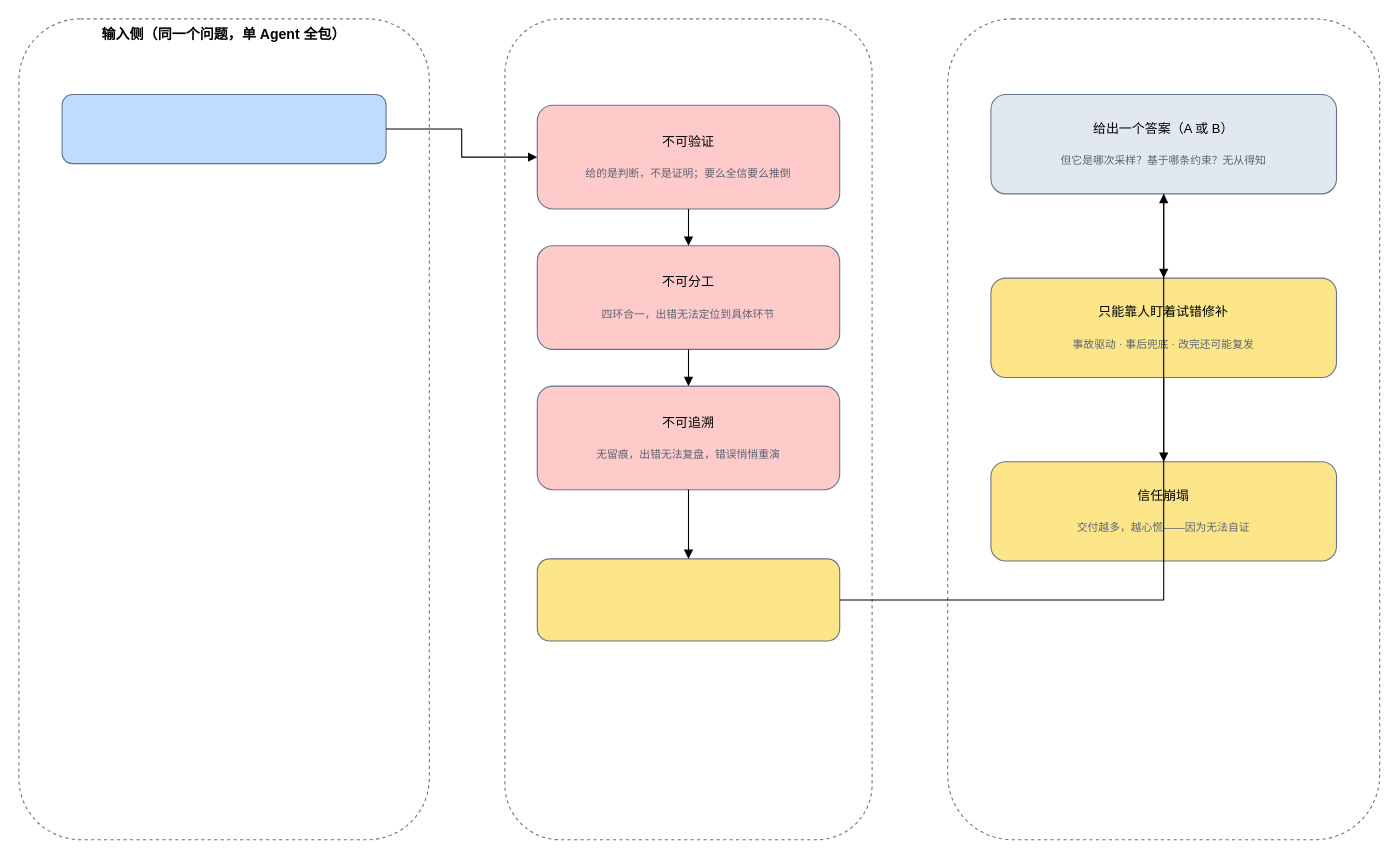
Some shapes in this 1399 by 859 pixel diagram are drawn without their labels. The box of each missing label's shape, as (x1, y1, x2, y2) in pixels:
三层失效（判断不可管理的根因）: (504, 18, 872, 840)
判断不可被管理 三缺陷叠加的必然结果: (536, 558, 840, 641)
同一个复杂问题 理解 · 拆解 · 执行 · 自检，全部塞进一次前向推理: (61, 93, 386, 164)
输出侧（后果难以追责）: (947, 18, 1380, 840)
